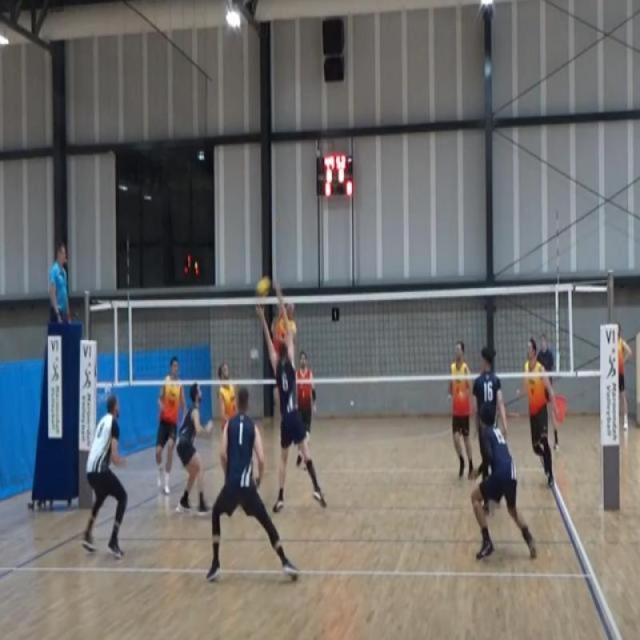volleyball: (254, 272, 273, 298)
